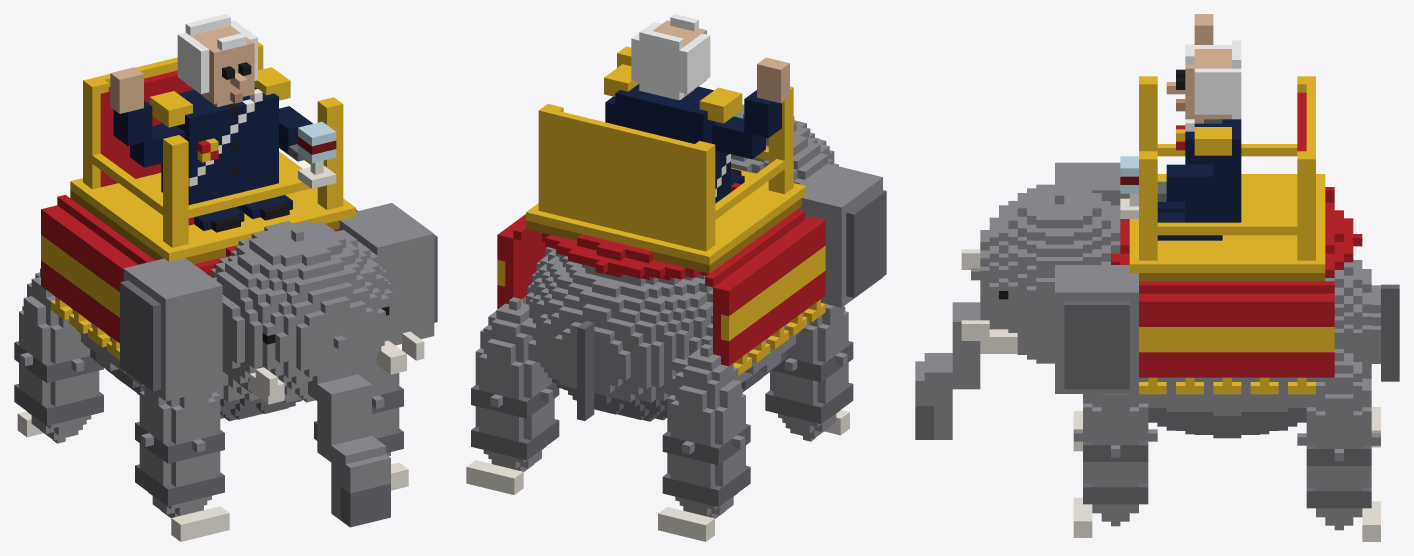
The model's file is rey_emerito_elefante_detallado.obj.
3 views of the same model, side by side, from view 1: azimuth 30°, elevation 25°; view 2: azimuth 150°, elevation 25°; view 3: azimuth 270°, elevation 25° (orthographic).
Size of the model in its own units: 3.5 by 5.1 by 5.2.
Materials: 1 (1 with a texture image).
